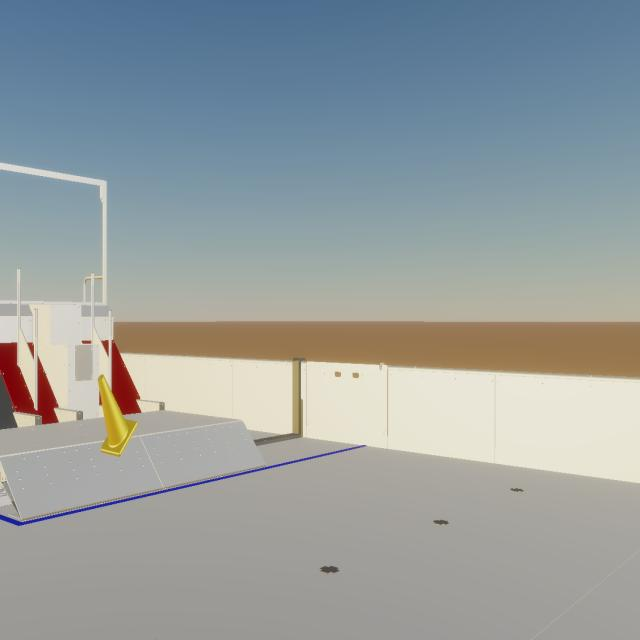frc_cone: (98, 374, 138, 457)
